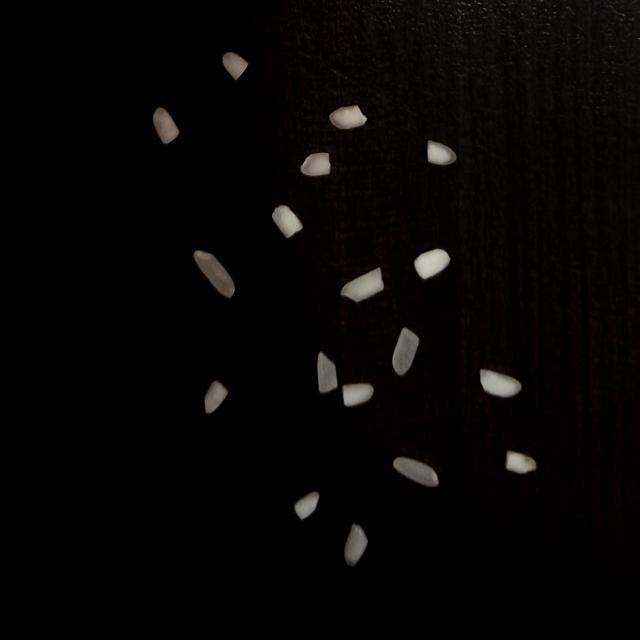Broken: (340, 267, 384, 302), (392, 328, 420, 376), (480, 370, 522, 398), (414, 249, 450, 280), (272, 205, 303, 238), (344, 524, 368, 566), (153, 107, 180, 144), (330, 105, 367, 129), (318, 352, 337, 393), (427, 140, 457, 165), (205, 381, 228, 413), (294, 492, 320, 520), (223, 52, 248, 80), (506, 451, 536, 474), (343, 384, 374, 406), (301, 152, 330, 175)
Full: (194, 251, 235, 298), (393, 457, 439, 487)
